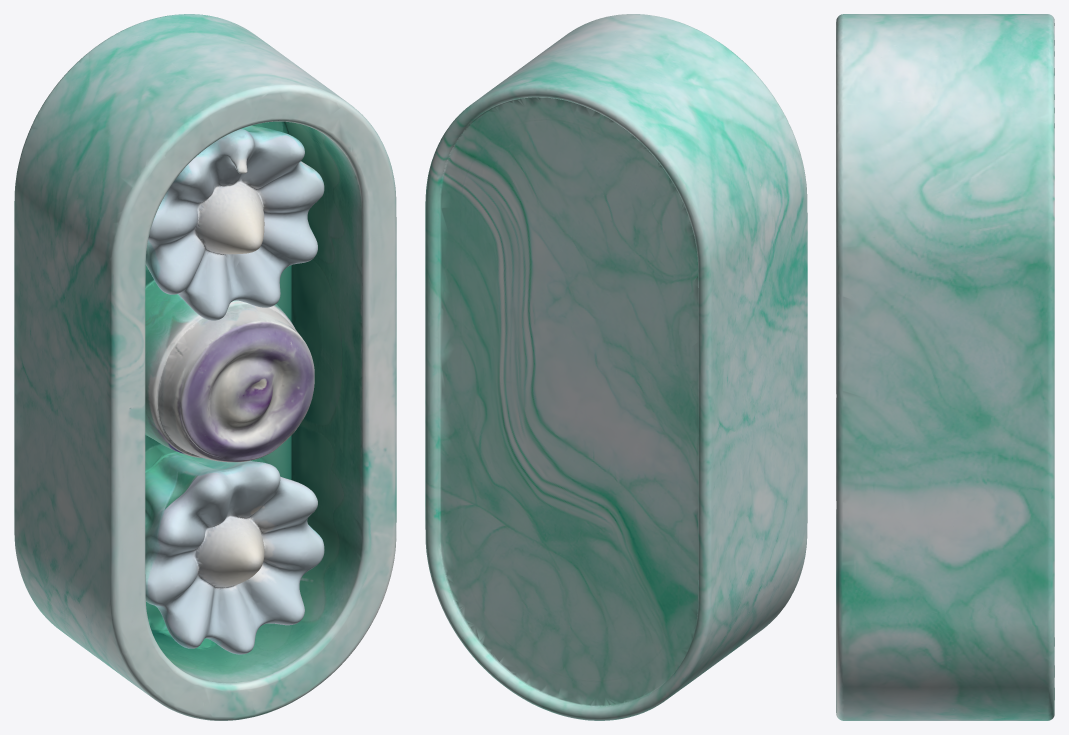
Rendered from Lit de Fleurs .glb.
The picture shows the model from 3 angles, left to right: view 1: azimuth 30°, elevation 25°; view 2: azimuth 150°, elevation 25°; view 3: azimuth 270°, elevation 25°; orthographic projection. The views are drawn at different scales.
Parts seen in each view (by area): view 1: Mesh_0.002; view 2: Mesh_0.002; view 3: Mesh_0.002.
Part boxes in pixels (x1,y1,x2,y2): Mesh_0.002: [14, 14, 396, 720]; Mesh_0.002: [425, 14, 807, 720]; Mesh_0.002: [836, 14, 1054, 720].
Size of the model in its own units: 0.0238 by 0.05 by 0.0147.
Materials: 1 (1 with a texture image).
